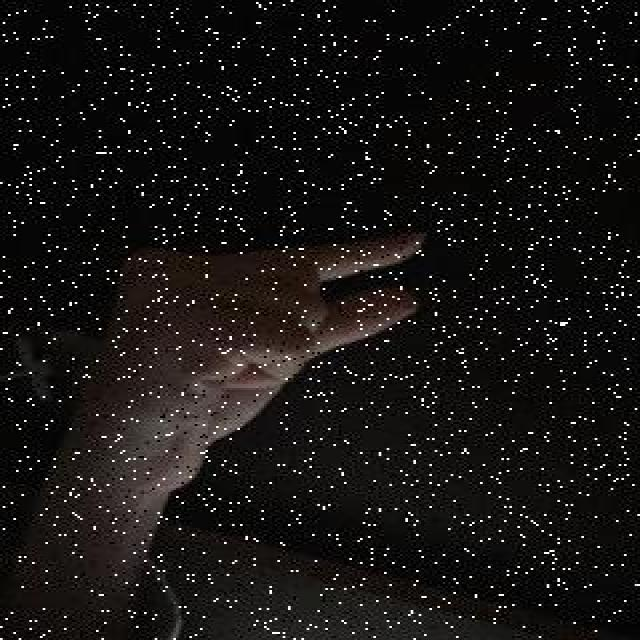G: (72, 223, 440, 493)
